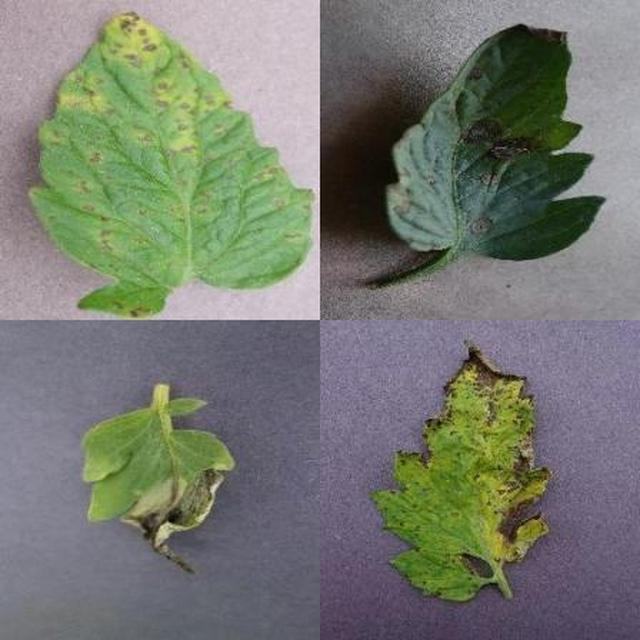Septoria Leaf: (224, 205, 640, 640)
